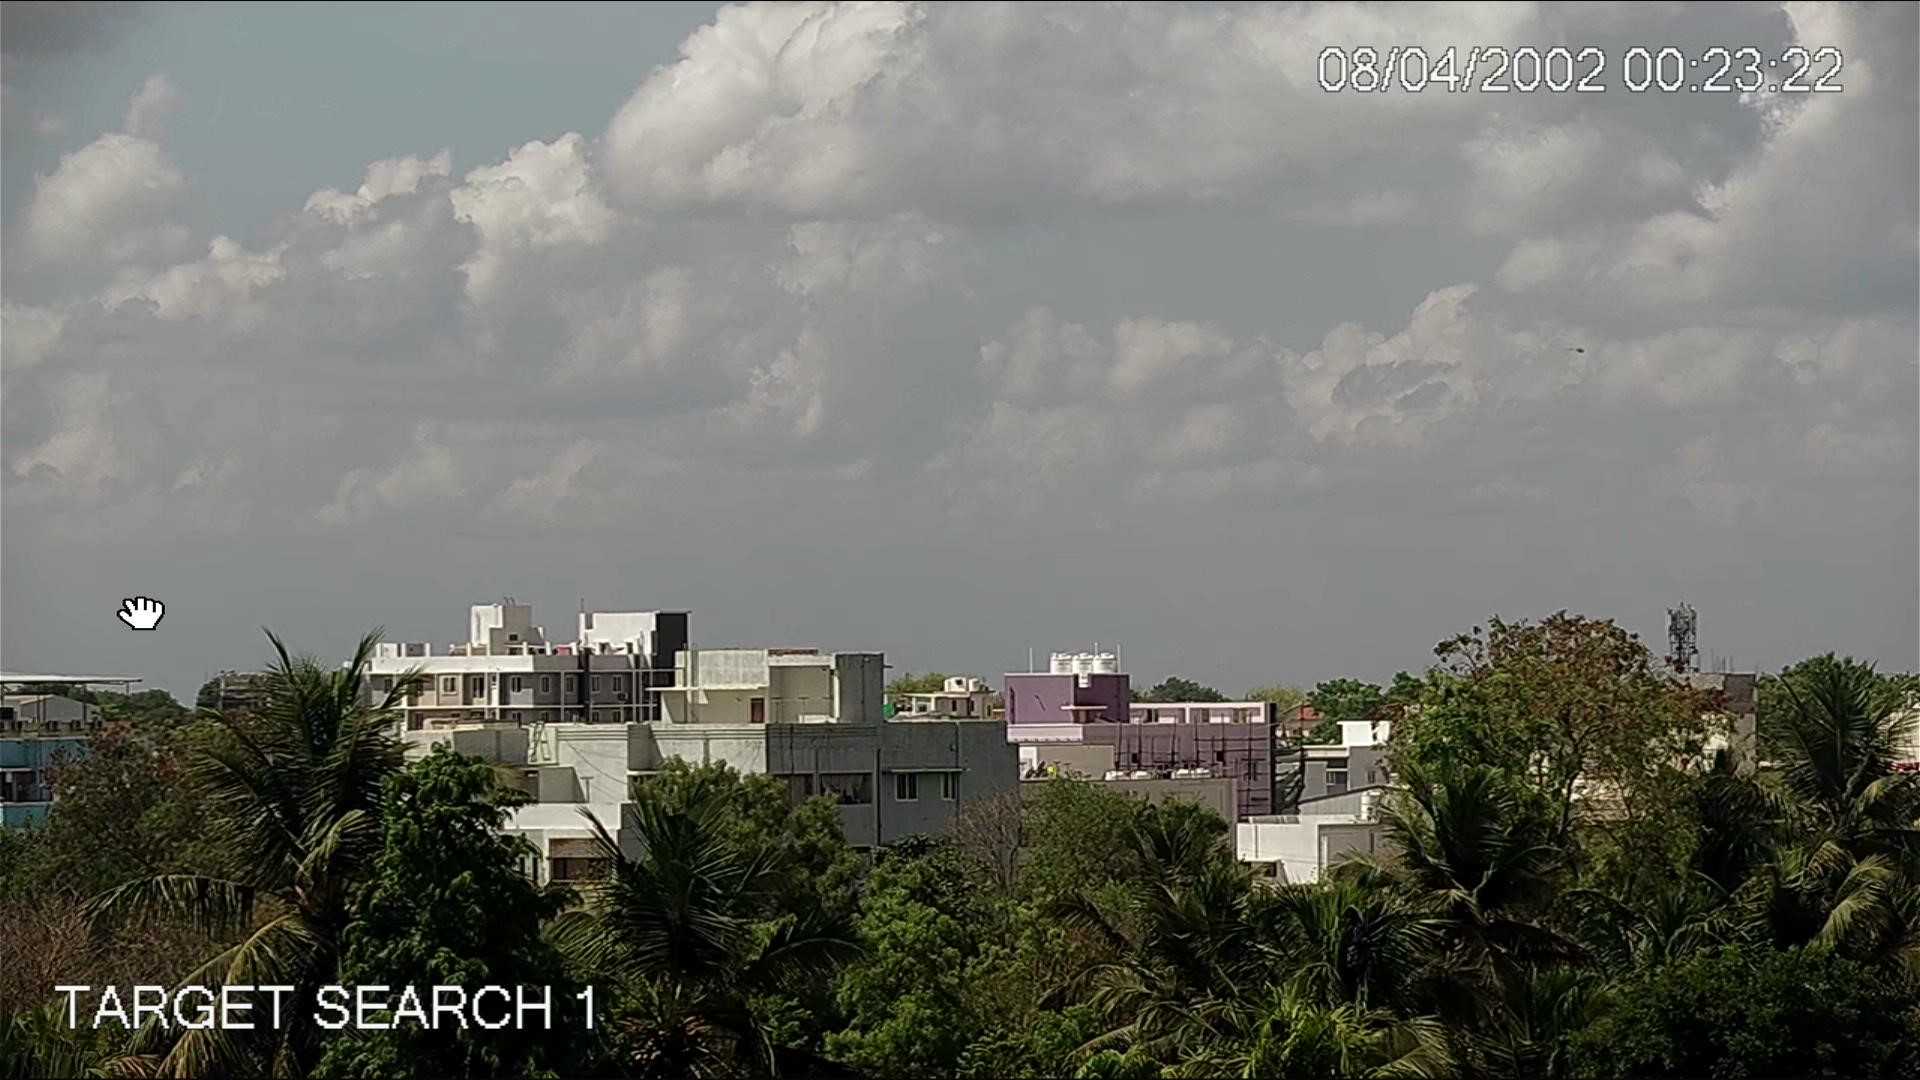SU_30: (1563, 342, 1592, 357)
